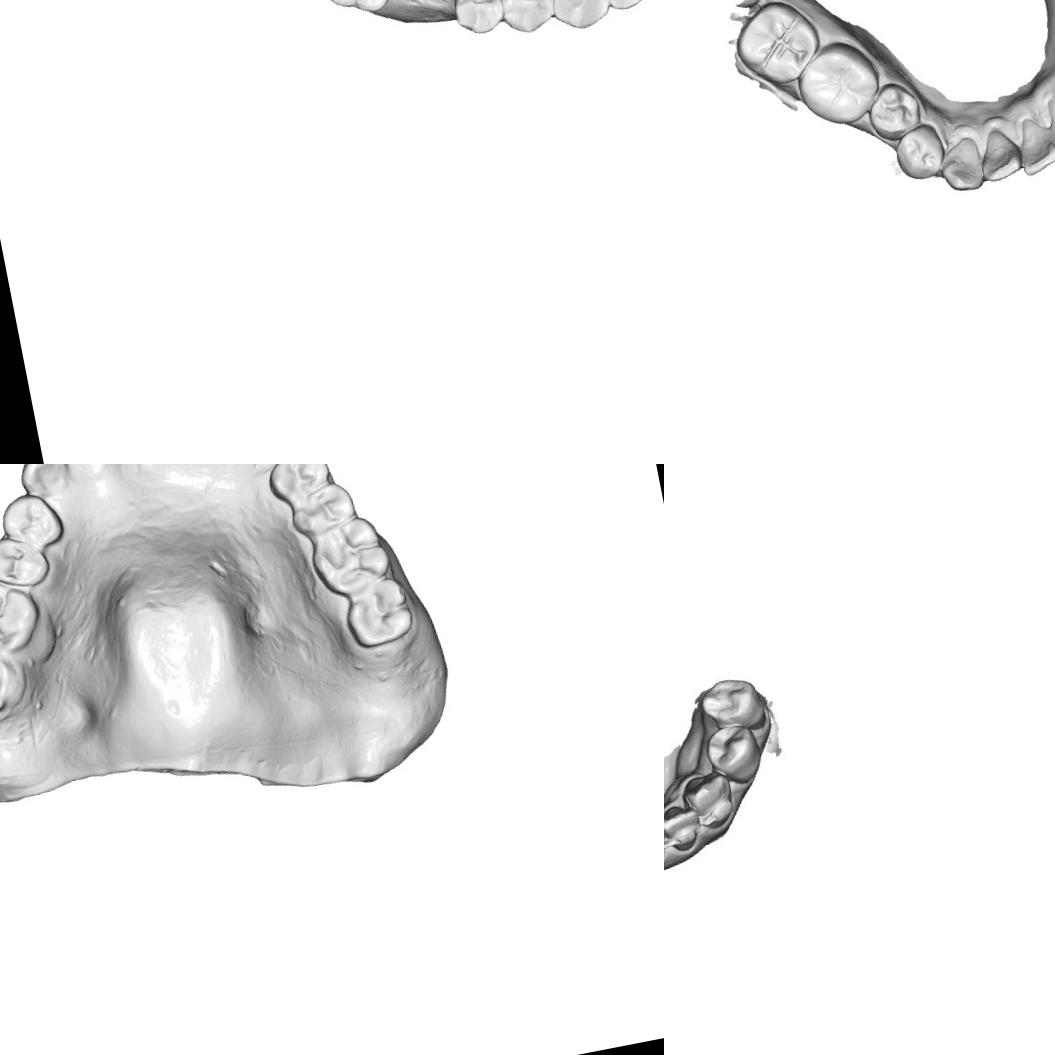canine: (934, 134, 987, 196), (686, 773, 740, 831), (542, 0, 615, 36), (13, 464, 71, 499)
incisor: (972, 123, 1026, 184), (1011, 110, 1055, 177), (664, 802, 701, 851), (1042, 91, 1055, 155), (595, 0, 653, 14)
molar: (790, 34, 886, 132), (727, 0, 827, 92), (305, 514, 392, 599), (337, 574, 420, 651), (0, 572, 42, 657), (0, 638, 22, 721), (310, 0, 396, 20)
premolar: (693, 670, 765, 736), (284, 477, 358, 540), (862, 76, 926, 146), (0, 487, 67, 552), (889, 119, 949, 184), (0, 529, 53, 594), (704, 722, 758, 778), (263, 464, 334, 506), (444, 0, 509, 38), (494, 0, 559, 37)
